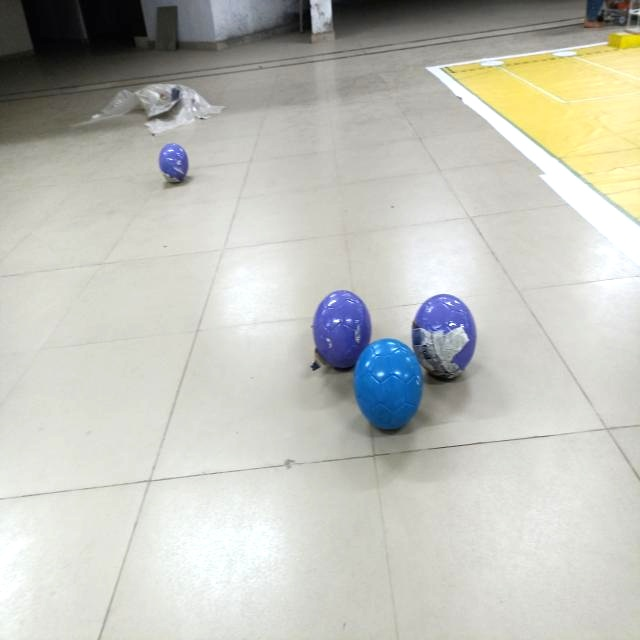blue_ball: (353, 339, 423, 428)
purple_ball: (411, 291, 475, 377), (315, 291, 372, 368), (160, 143, 191, 181)
